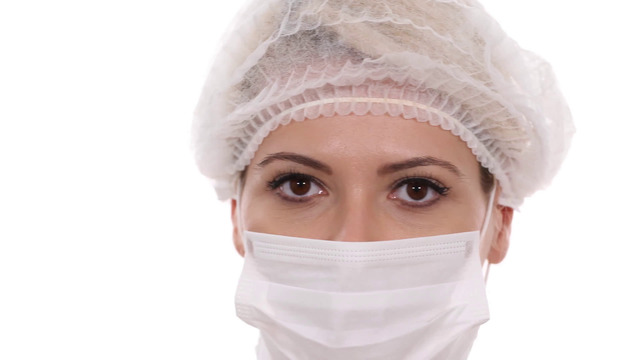mask: (240, 238, 489, 360)
